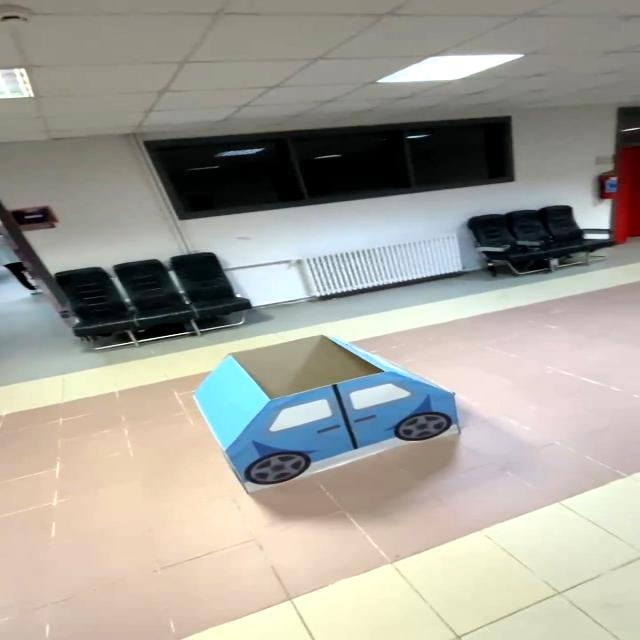blue_car: (181, 329, 475, 495)
